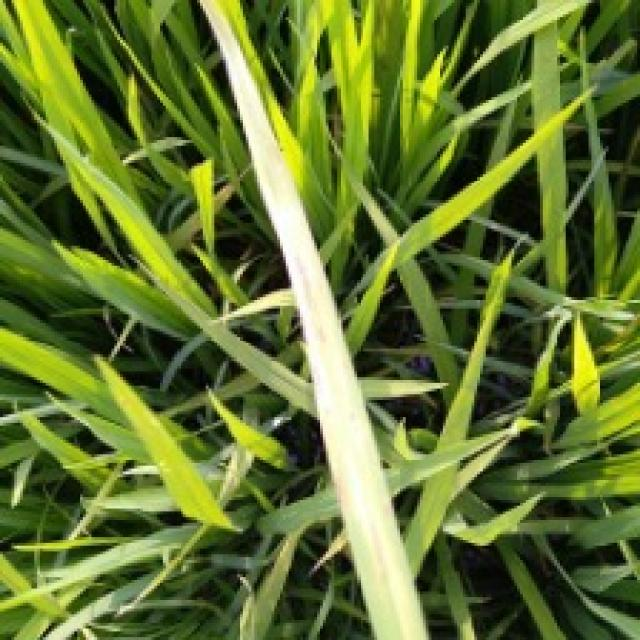Rice___Bacterial_Leaf_Blight: (196, 0, 432, 637)
